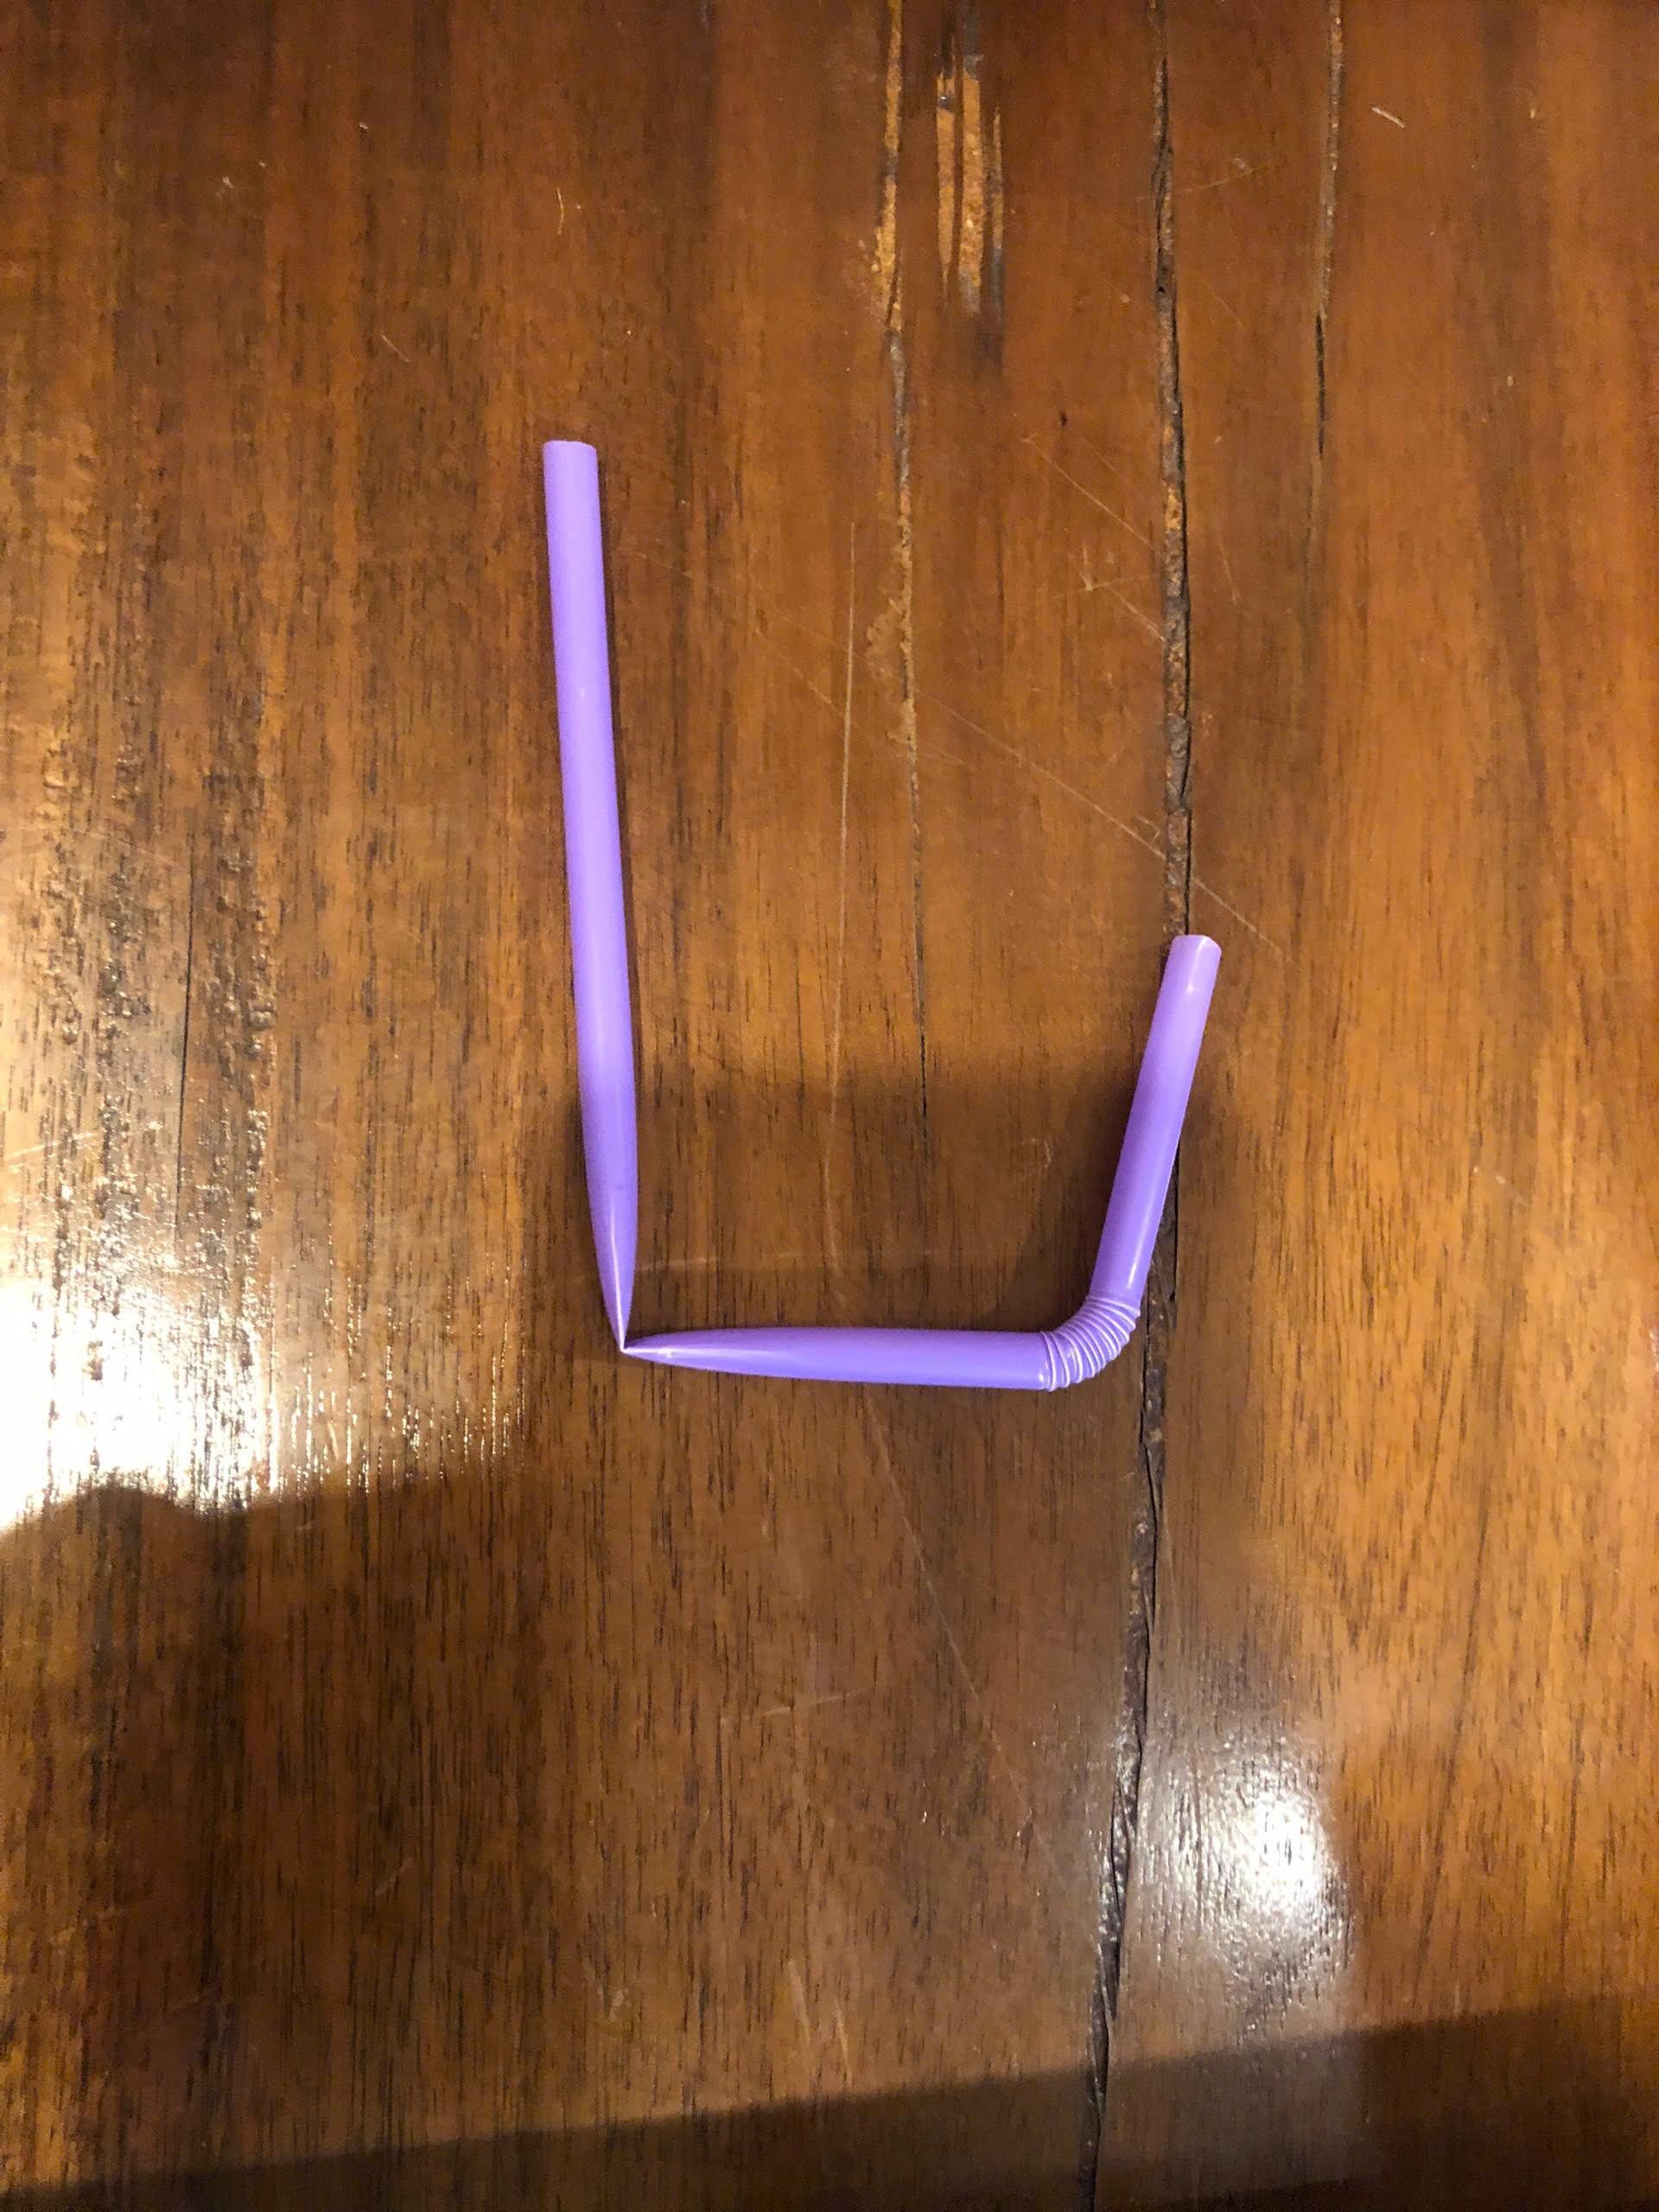Vo co: (535, 437, 1220, 1388)
